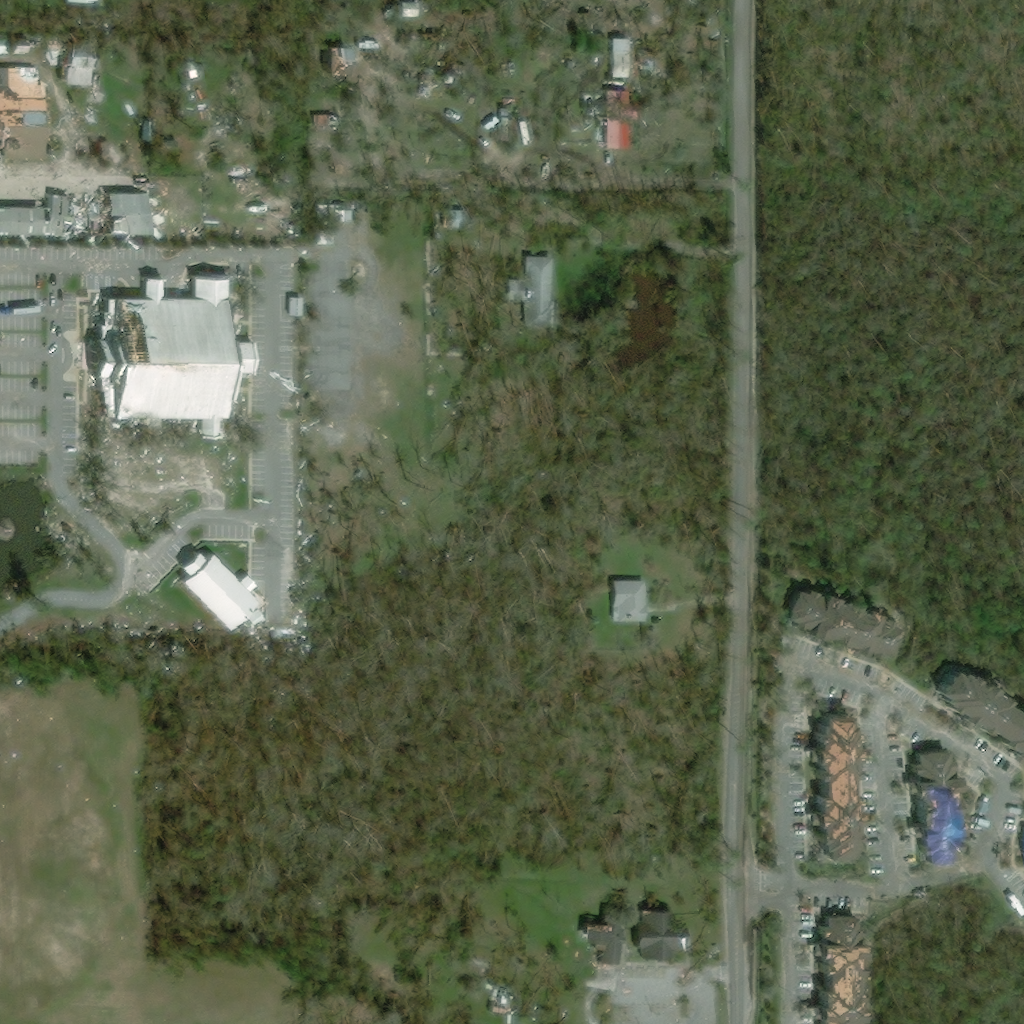destroyed: (0, 67, 44, 160), (54, 54, 92, 85), (79, 101, 89, 119)
major_damage: (79, 272, 255, 440), (0, 192, 156, 234), (311, 44, 348, 76), (486, 986, 511, 1018), (413, 66, 430, 95)
minor_damage: (779, 586, 902, 662), (803, 714, 863, 862), (803, 913, 862, 1023), (630, 909, 687, 965), (579, 910, 632, 969), (638, 44, 653, 66)
no_damage: (929, 668, 1023, 768), (903, 748, 969, 864), (175, 552, 265, 631), (596, 99, 655, 153), (509, 256, 553, 323), (608, 578, 645, 623), (604, 37, 630, 65), (312, 217, 336, 246), (0, 44, 27, 57), (184, 59, 199, 80), (338, 205, 352, 221), (437, 209, 450, 226)
